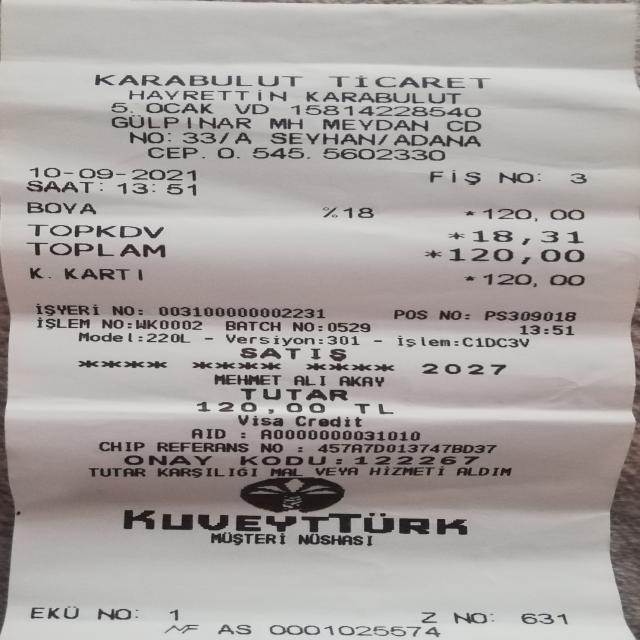text: (122, 506, 467, 536), (217, 145, 444, 162), (95, 72, 302, 88), (290, 103, 480, 118), (28, 165, 195, 182), (156, 302, 322, 318), (450, 246, 584, 265), (328, 74, 488, 89), (111, 114, 252, 131), (26, 241, 164, 258), (26, 222, 161, 239), (268, 624, 440, 637), (129, 88, 286, 102), (262, 428, 419, 442), (446, 228, 583, 244), (306, 90, 460, 104), (318, 442, 497, 454), (460, 207, 584, 222), (461, 272, 584, 287), (197, 400, 324, 414), (322, 116, 426, 133), (271, 131, 371, 147), (241, 346, 344, 361), (354, 454, 478, 466), (485, 308, 574, 324), (393, 132, 481, 148), (118, 180, 194, 198), (226, 332, 312, 347), (240, 388, 347, 400), (422, 361, 504, 376), (26, 199, 94, 217), (156, 466, 257, 478), (26, 178, 93, 195), (204, 532, 285, 546), (64, 266, 142, 280), (124, 454, 211, 466), (240, 454, 325, 466), (157, 441, 249, 452), (36, 302, 97, 317), (368, 466, 444, 478), (295, 414, 360, 428), (423, 170, 482, 185), (298, 533, 365, 546), (146, 102, 212, 115), (214, 373, 280, 386), (32, 602, 76, 621), (79, 330, 137, 344), (392, 336, 459, 348), (461, 336, 528, 348), (148, 145, 198, 160), (136, 319, 204, 330), (320, 206, 372, 220), (226, 319, 280, 332), (36, 316, 88, 329), (88, 466, 144, 478), (456, 465, 511, 477), (339, 374, 384, 388), (522, 612, 566, 626), (451, 611, 497, 624), (98, 604, 130, 622), (150, 331, 190, 345), (520, 324, 574, 334), (447, 118, 480, 134), (238, 414, 282, 426), (100, 440, 144, 452), (330, 320, 370, 333), (394, 306, 426, 322), (354, 402, 392, 415), (499, 169, 528, 186), (318, 466, 358, 478), (270, 116, 301, 131), (130, 130, 161, 145), (234, 102, 267, 116), (330, 333, 359, 348), (272, 466, 305, 478), (165, 623, 198, 635), (218, 624, 250, 636), (439, 307, 464, 322), (191, 428, 225, 439), (188, 131, 214, 145), (294, 374, 324, 386), (112, 302, 132, 318), (28, 266, 50, 279), (102, 317, 123, 330), (112, 101, 132, 114), (571, 170, 585, 186), (260, 442, 282, 452), (295, 320, 313, 332), (421, 611, 437, 624), (202, 145, 213, 160), (220, 130, 228, 146), (382, 132, 390, 148), (167, 130, 175, 145), (243, 131, 251, 146), (170, 605, 176, 623), (319, 333, 326, 347), (374, 334, 381, 347), (463, 307, 469, 322), (205, 332, 211, 345), (141, 331, 146, 344), (129, 318, 134, 330), (336, 454, 341, 466), (241, 428, 244, 439), (298, 442, 301, 452)
